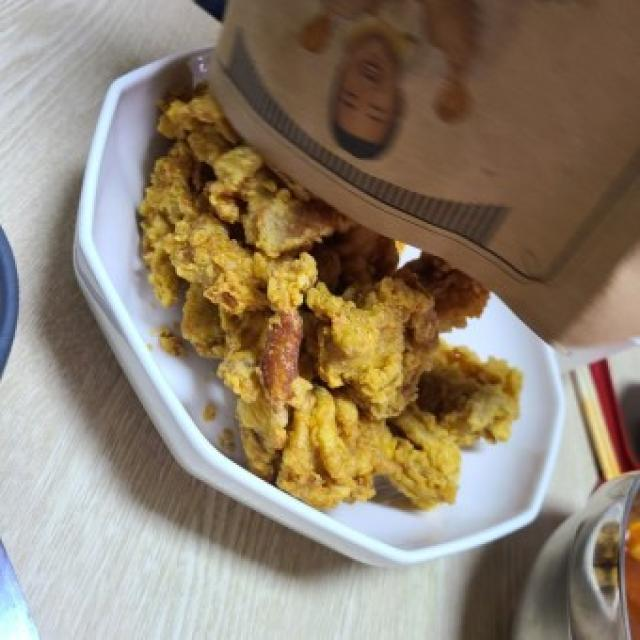Frango: (156, 61, 532, 522)
